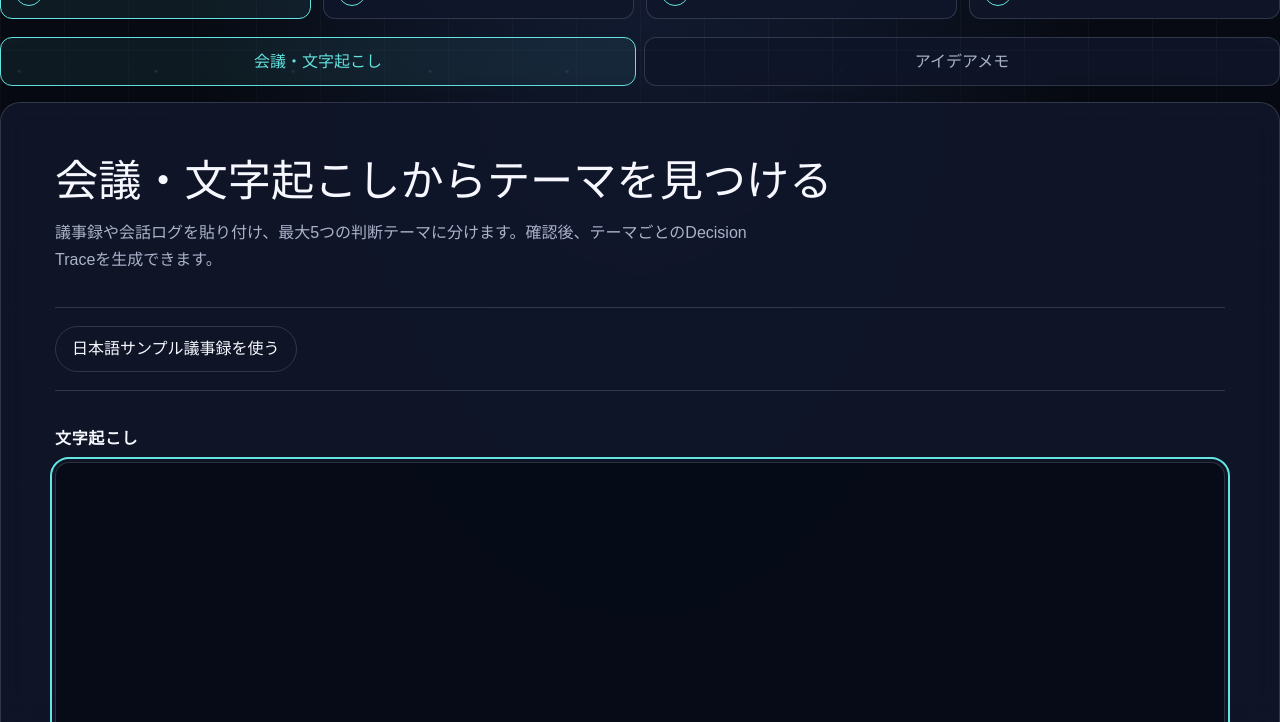
Test case: DecisionTraceApp › disables generation and announces progress while submitting
The image size is (1280, 722).
What coordinates should you click on to do the following:
click the button "アイデアメモ"
I would click on:
 (962, 62)
Its box is [644, 37, 1279, 86].
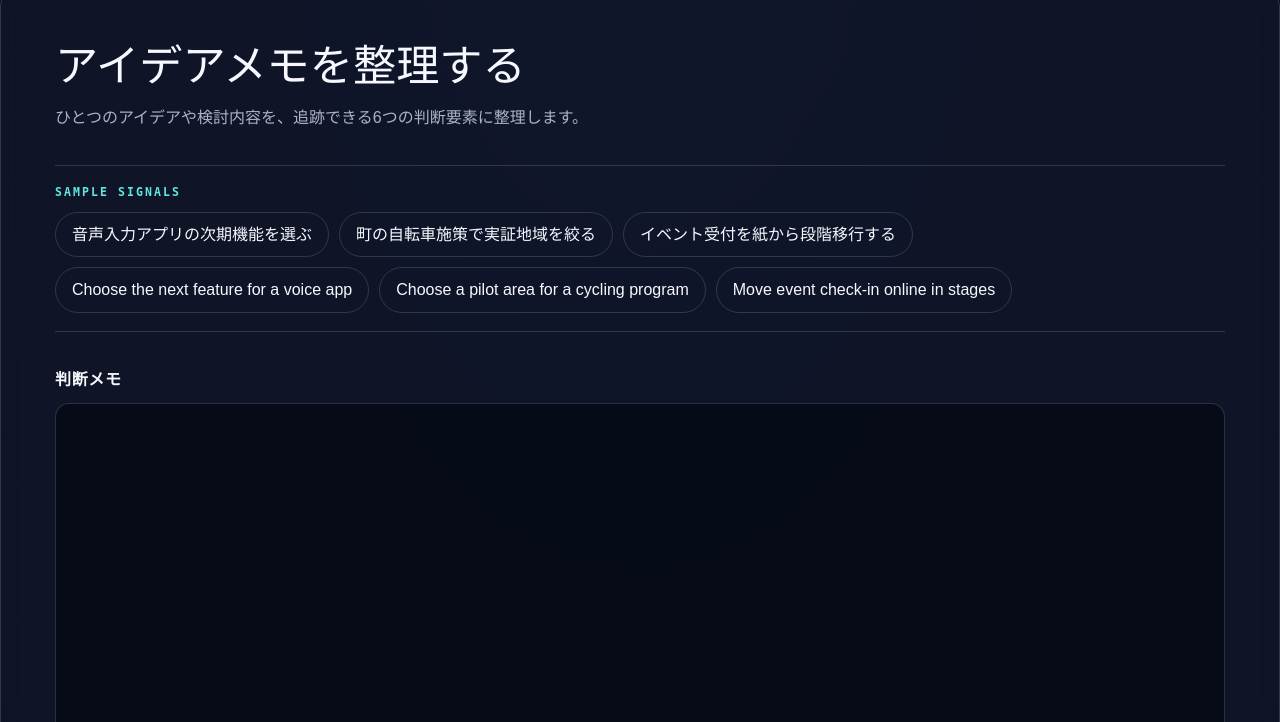
What coordinates should you click on to do the following:
click the button "町の自転車施策で実証地域を絞る"
I would click on:
 (476, 235)
Its box is [339, 212, 613, 257].
(page scrolled)
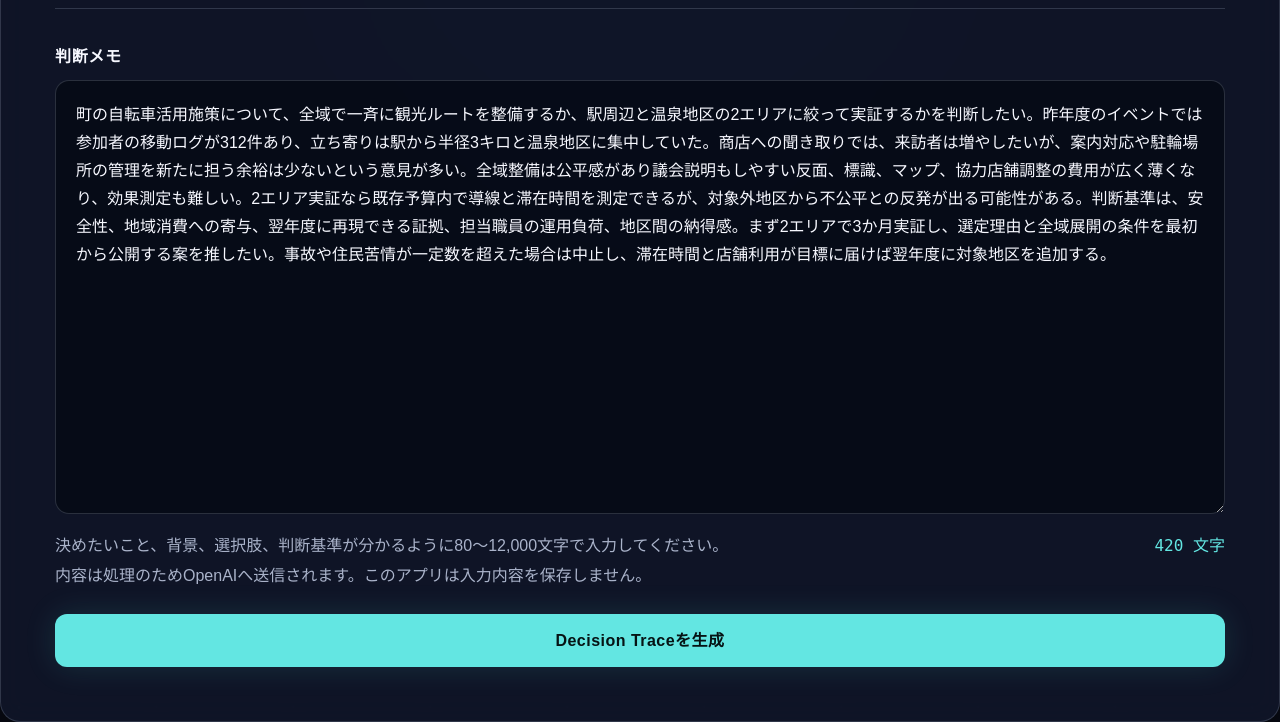
What coordinates should you click on to do the following:
click the button "Decision Traceを生成"
I would click on:
 (640, 641)
Its box is [55, 614, 1225, 668].
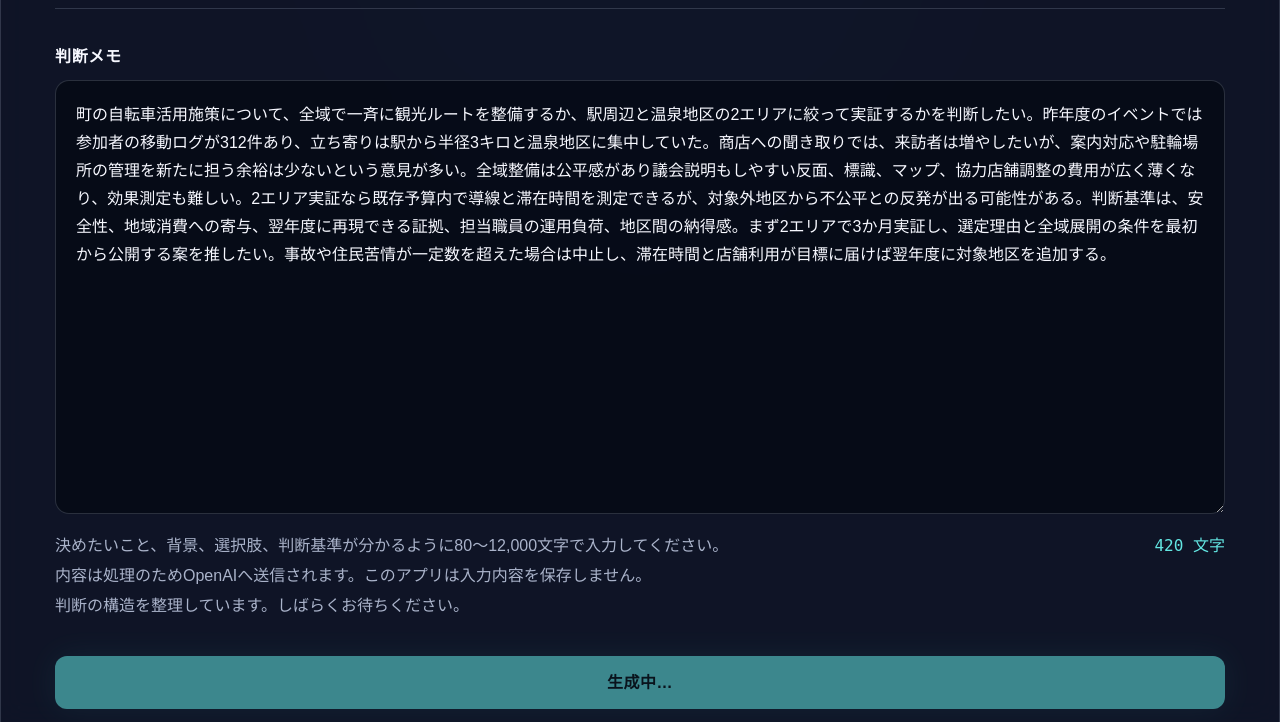
expect the text box labelled "判断メモ" holds "町の自転車活用施策について、全域で一斉に観光ルートを整備するか、駅周辺と温泉地区の2エリアに絞って実証するかを判断したい。昨年度のイベントでは参加者の移動ログが312件あり、立ち寄りは駅から半径3キロと温泉地区に集中していた。商店への聞き取りでは、来訪者は増やしたいが、案内対応や駐輪場所の管理を新たに担う余裕は少ないと": met, box [55, 80, 1225, 514]
expect the button "生成中…" is disabled: met, box [55, 656, 1225, 709]
expect the message shows "判断の構造を整理しています": met, box [55, 597, 469, 614]
